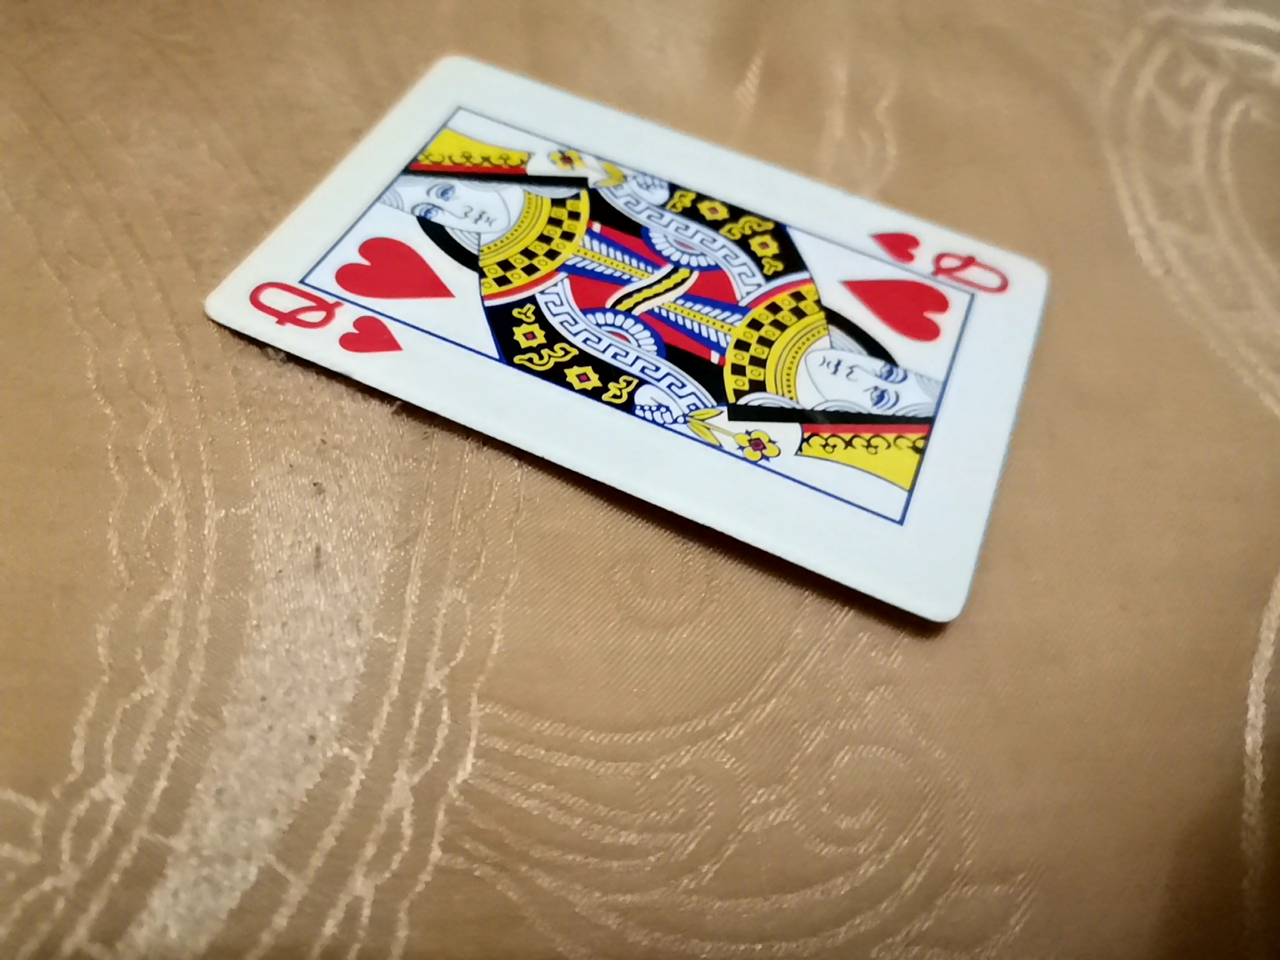hx q: (183, 64, 1078, 621)
